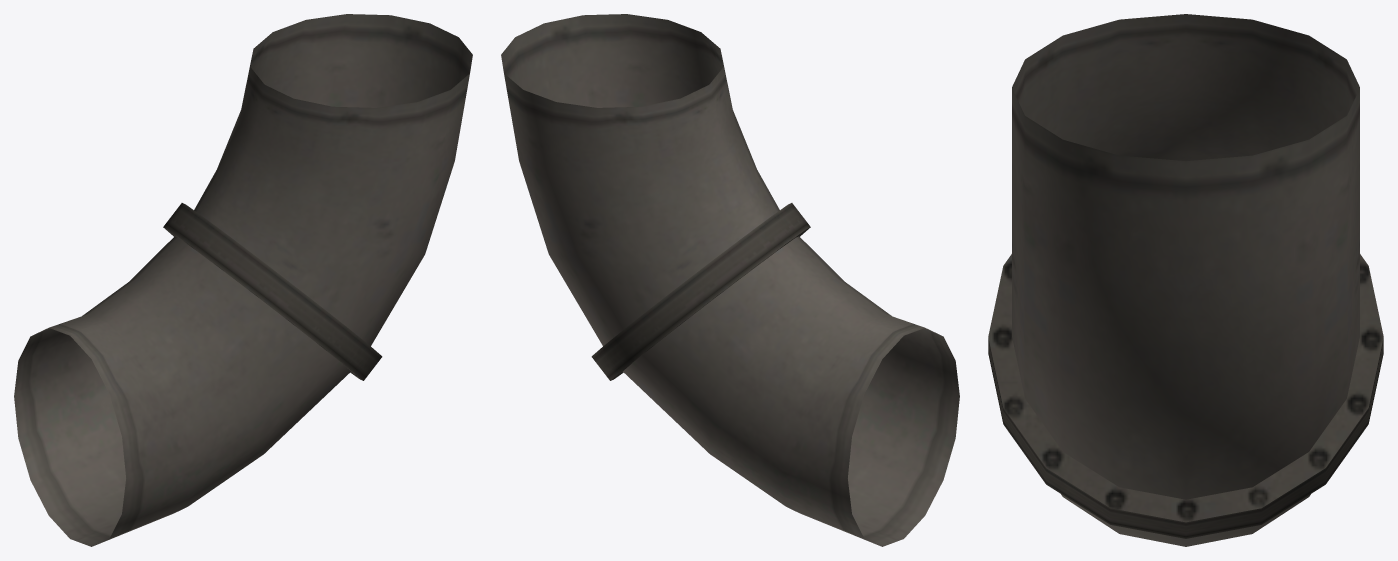
The model's file is com_pipe_4_90angle_white_clean_lod0.glb.
3 renders of one model, left to right at view 1: azimuth 30°, elevation 25°; view 2: azimuth 150°, elevation 25°; view 3: azimuth 270°, elevation 25°, orthographic. The views are drawn at different scales.
Parts seen in each view (by area): view 1: surf0; view 2: surf0; view 3: surf0.
Part boxes in pixels (bbox=[...]): surf0: bbox=[14, 14, 472, 546]; surf0: bbox=[501, 14, 959, 546]; surf0: bbox=[988, 14, 1383, 546].
Size of the model in its own units: 16 by 16 by 9.08.
